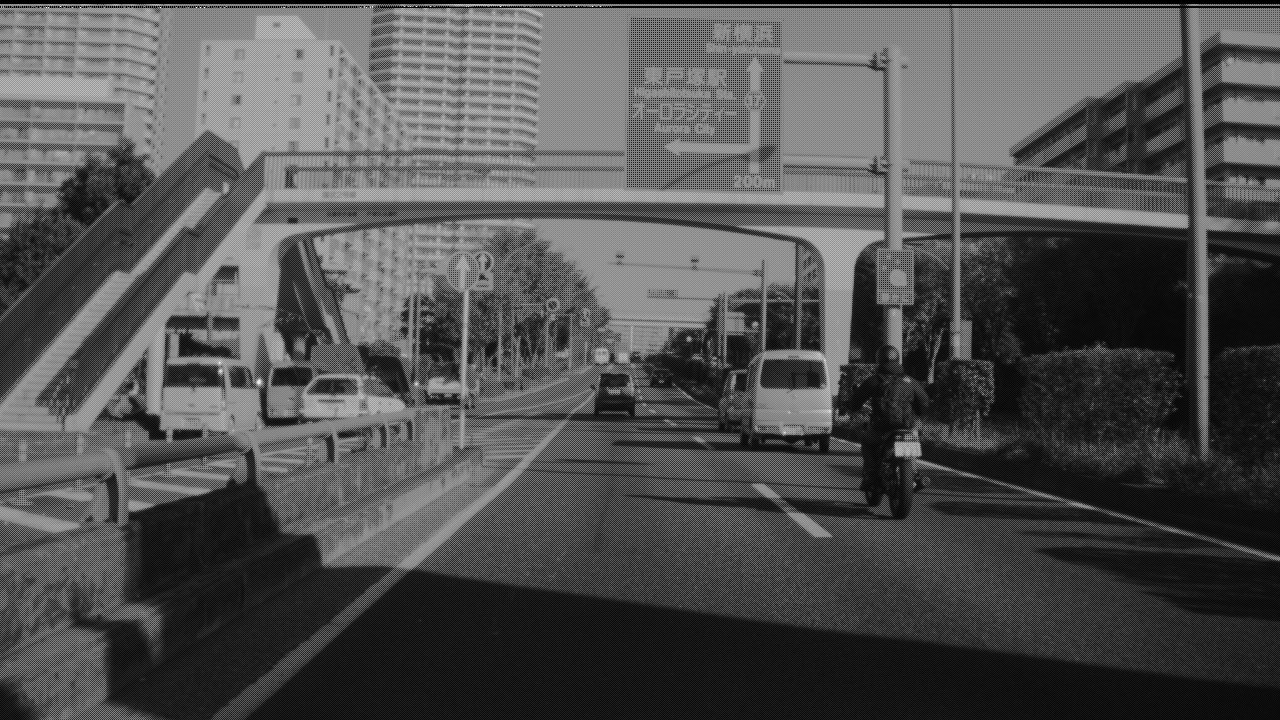pole: (1178, 1, 1208, 452), (883, 38, 903, 338), (947, 1, 961, 412), (794, 234, 801, 341), (761, 252, 767, 343)
